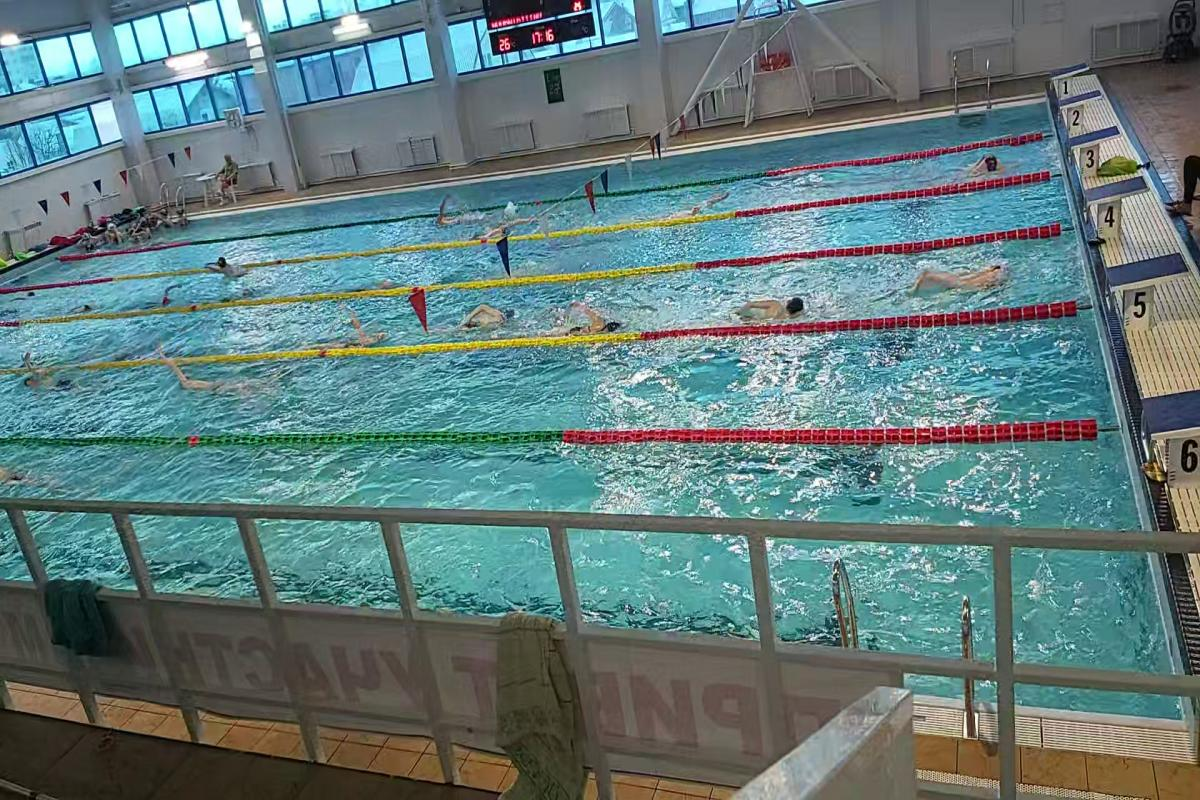swimmer: (908, 250, 1020, 297), (164, 360, 282, 400), (549, 291, 642, 336), (725, 286, 826, 325), (446, 289, 530, 334), (331, 314, 394, 348), (15, 365, 86, 392), (966, 146, 1014, 176), (416, 200, 466, 228), (655, 197, 736, 212), (199, 256, 245, 282), (469, 218, 549, 232), (148, 286, 190, 306)
